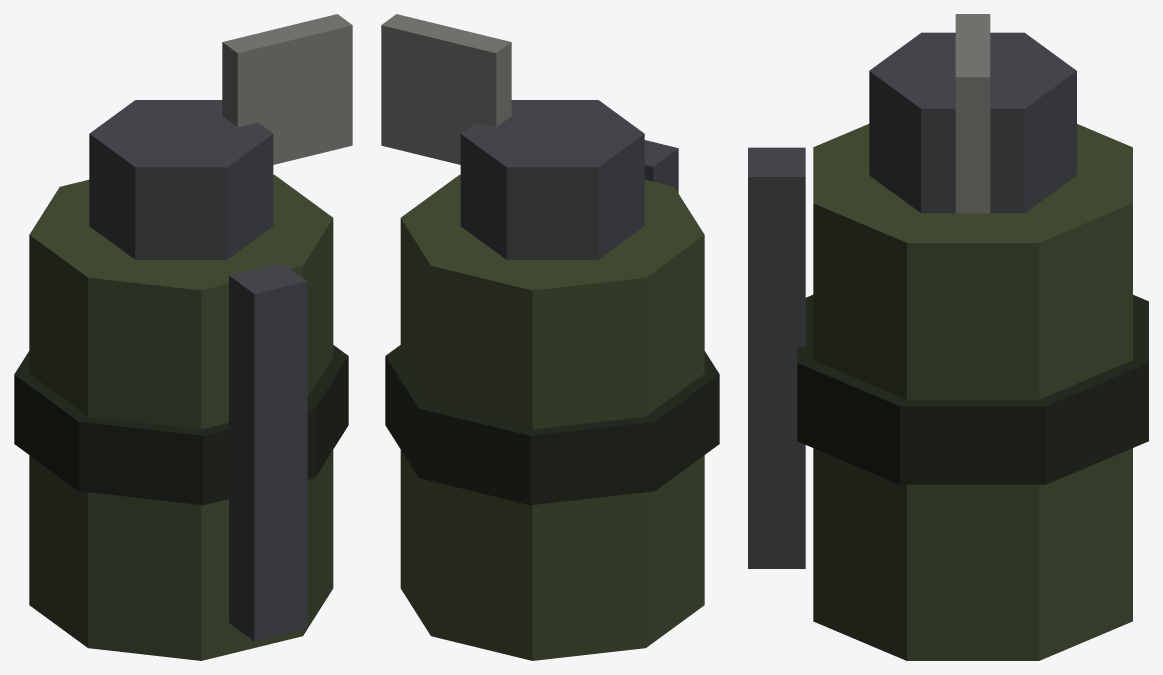
The model's file is frag_grenade.glb.
The picture shows the model from 3 angles, left to right: view 1: azimuth 30°, elevation 25°; view 2: azimuth 150°, elevation 25°; view 3: azimuth 270°, elevation 25°; orthographic projection. The views are drawn at different scales.
Parts seen in each view (by area): view 1: frag_grenade; view 2: frag_grenade; view 3: frag_grenade.
Part boxes in pixels (<box>): frag_grenade: <box>14,14,352,660</box>; frag_grenade: <box>381,14,719,660</box>; frag_grenade: <box>748,14,1148,660</box>.
Bounding box in the file's own units: 0.0675 × 0.116 × 0.0695.
